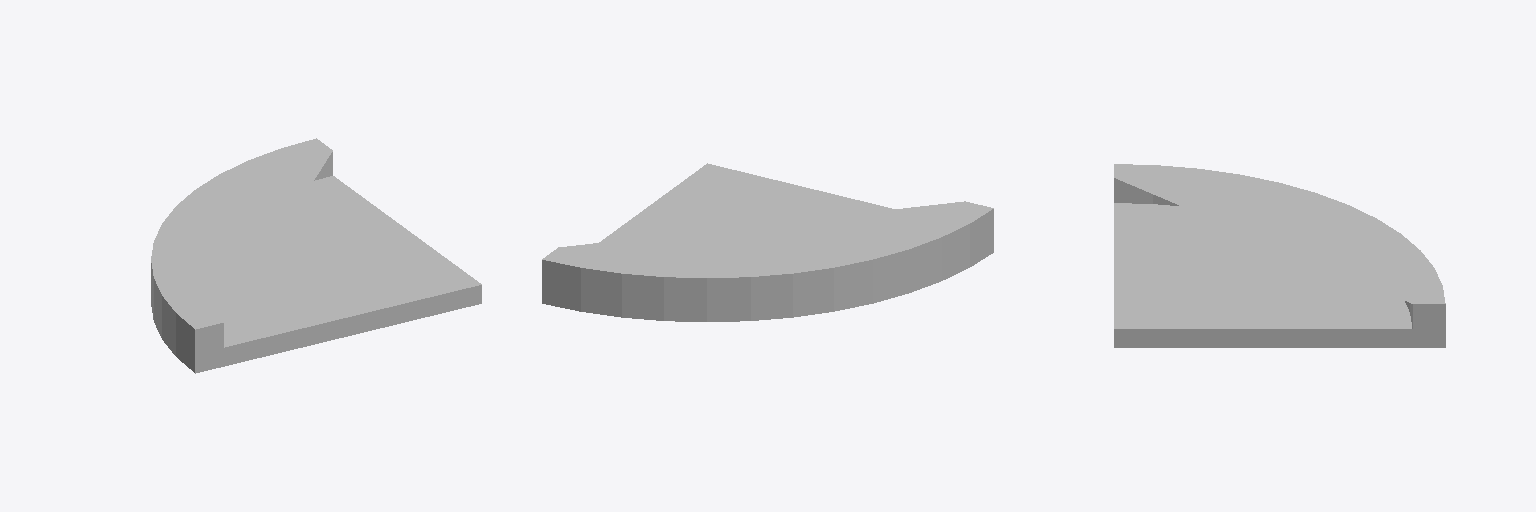
Rendered from Round_corner_3_01.obj.
The picture shows the model from 3 angles: view 1: azimuth 30°, elevation 25°; view 2: azimuth 150°, elevation 25°; view 3: azimuth 270°, elevation 25°; orthographic projection.
Visible parts, largest first — view 1: Mesh1 Round_corner_3 Model; view 2: Mesh1 Round_corner_3 Model; view 3: Mesh1 Round_corner_3 Model.
Boxes of the visible parts, box(x1,y1,x2,y2) form: Mesh1 Round_corner_3 Model: box(151, 138, 481, 373); Mesh1 Round_corner_3 Model: box(542, 163, 993, 321); Mesh1 Round_corner_3 Model: box(1114, 164, 1445, 347).
Bounding box in the file's own units: 3 × 0.44 × 3.